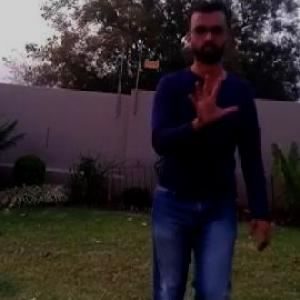follow_hand: (185, 66, 241, 126)
